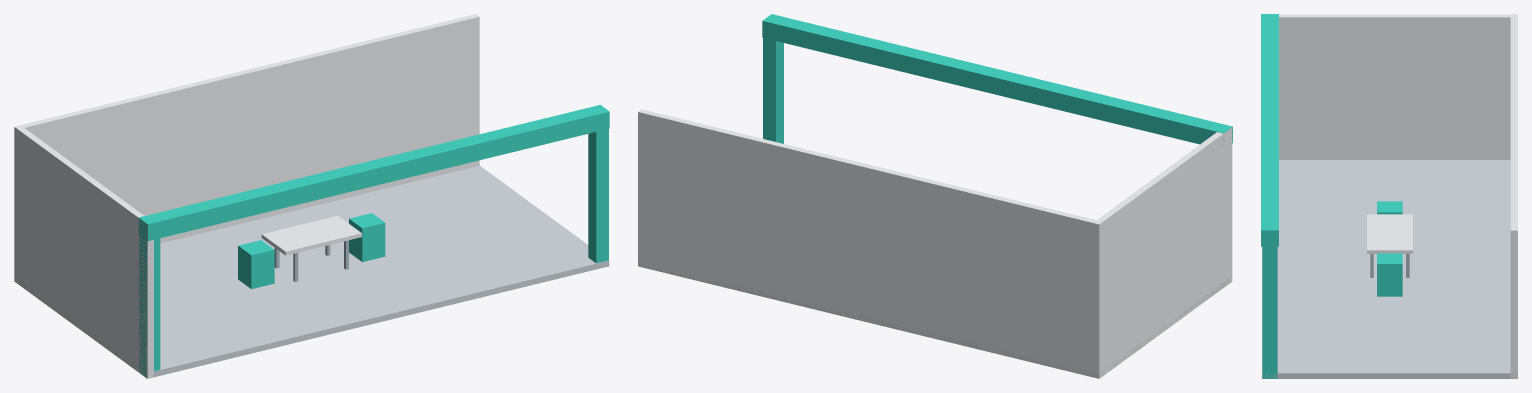
3 views of the same model, side by side, from view 1: azimuth 30°, elevation 25°; view 2: azimuth 150°, elevation 25°; view 3: azimuth 270°, elevation 25° (orthographic). The views are drawn at different scales.
Parts seen in each view (by area): view 1: Exhibition Booth Concept; view 2: Exhibition Booth Concept; view 3: Exhibition Booth Concept.
Boxes of the visible parts, <box> form: Exhibition Booth Concept: <box>14,14,609,378</box>; Exhibition Booth Concept: <box>638,14,1232,378</box>; Exhibition Booth Concept: <box>1261,14,1517,378</box>.
Size of the model in its own units: 10 by 3.2 by 5.02.
